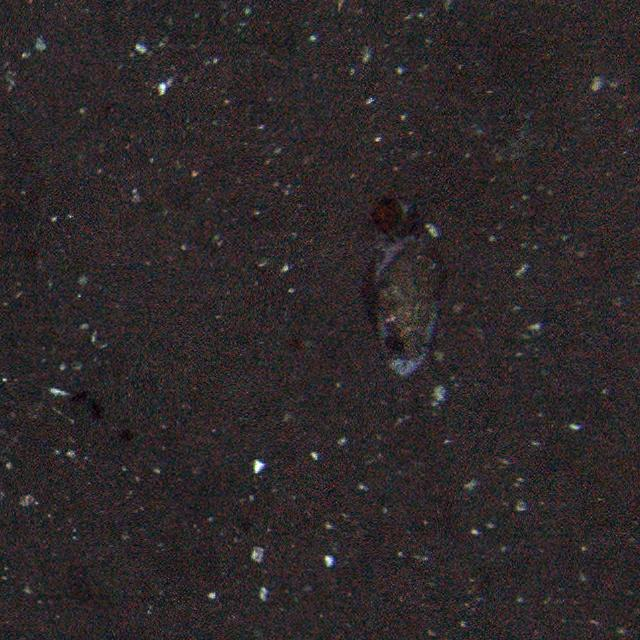whelk: (370, 214, 449, 370)
